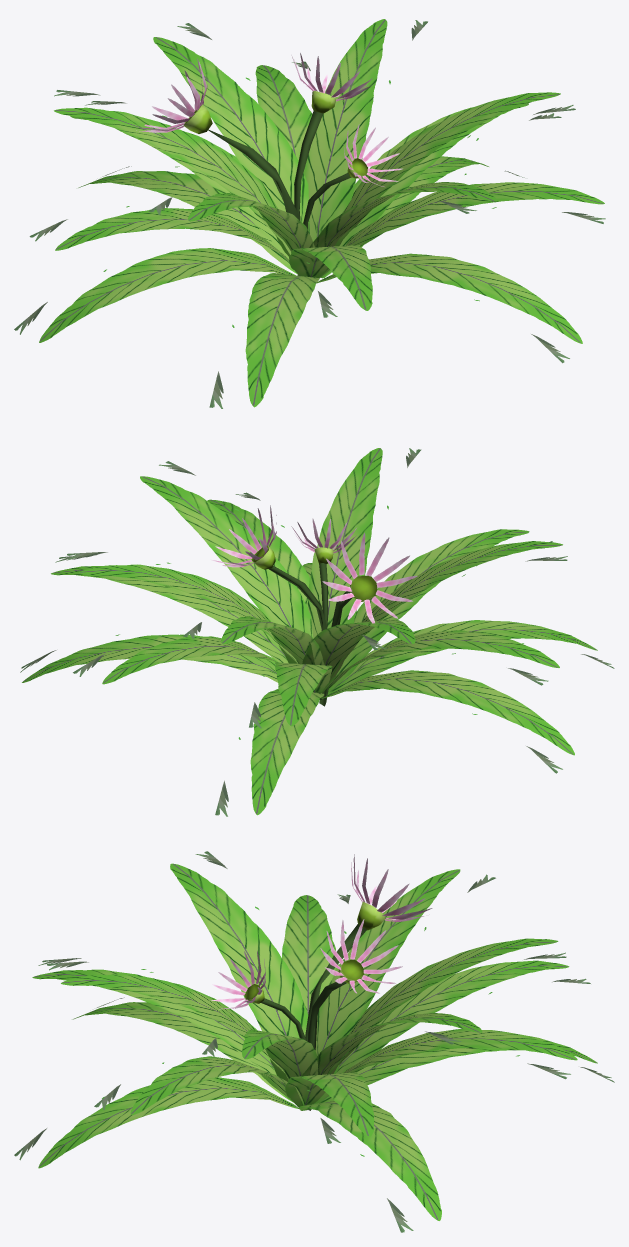
File: FlowerFern3.fbx
3 renders of one model, top to bottom at view 1: azimuth 30°, elevation 25°; view 2: azimuth 150°, elevation 25°; view 3: azimuth 270°, elevation 25°, orthographic. The views are drawn at different scales.
Parts seen in each view (by area): view 1: leaf.008, leaf.009, leaf.013, leaf.014, leaf.010, leaf.017, leaf.007, leaf.004, leaf.001, leaf.005, leaf.015, leaf.003 (+10 smaller); view 2: leaf.007, leaf.012, leaf.013, leaf.015, leaf.005, leaf.014, leaf.016, leaf.008, leaf.001, leaf.011, leaf.003, leaf.006 (+9 smaller); view 3: leaf.011, leaf.010, leaf.002, leaf.017, leaf.016, leaf.001, leaf.009, leaf.003, leaf.012, leaf.006, leaf.004, leaf.005 (+10 smaller).
Boxes of the visible parts, left/top/right/bottom form: leaf.008: left=303, top=19, right=427, bottom=241; leaf.009: left=153, top=23, right=309, bottom=233; leaf.013: left=14, top=248, right=295, bottom=342; leaf.014: left=209, top=273, right=319, bottom=408; leaf.010: left=54, top=90, right=291, bottom=254; leaf.017: left=316, top=253, right=582, bottom=363; leaf.007: left=335, top=92, right=575, bottom=246; leaf.004: left=318, top=182, right=605, bottom=278; leaf.001: left=29, top=206, right=289, bottom=262; leaf.005: left=289, top=245, right=372, bottom=317; leaf.015: left=78, top=166, right=297, bottom=273; leaf.003: left=255, top=61, right=312, bottom=160; leaf.007: left=140, top=461, right=313, bottom=638; leaf.012: left=307, top=448, right=421, bottom=638; leaf.013: left=321, top=670, right=574, bottom=773; leaf.015: left=215, top=689, right=324, bottom=816; leaf.005: left=328, top=529, right=552, bottom=693; leaf.014: left=327, top=620, right=614, bottom=694; leaf.016: left=20, top=634, right=278, bottom=682; leaf.008: left=67, top=552, right=298, bottom=663; leaf.001: left=321, top=630, right=559, bottom=693; leaf.011: left=330, top=541, right=567, bottom=679; leaf.003: left=73, top=636, right=277, bottom=684; leaf.006: left=51, top=555, right=288, bottom=663; leaf.011: left=170, top=851, right=308, bottom=1038; leaf.010: left=314, top=869, right=495, bottom=1103; leaf.002: left=314, top=960, right=590, bottom=1103; leaf.017: left=14, top=1077, right=297, bottom=1168; leaf.016: left=298, top=1101, right=441, bottom=1232; leaf.001: left=282, top=894, right=350, bottom=1014; leaf.009: left=327, top=938, right=566, bottom=1074; leaf.003: left=313, top=1029, right=577, bottom=1103; leaf.012: left=47, top=961, right=288, bottom=1079; leaf.006: left=285, top=1072, right=374, bottom=1143; leaf.004: left=94, top=1056, right=304, bottom=1114; leaf.005: left=32, top=958, right=276, bottom=1075.
Size of the model in its own units: 222 by 88.15 by 218.
